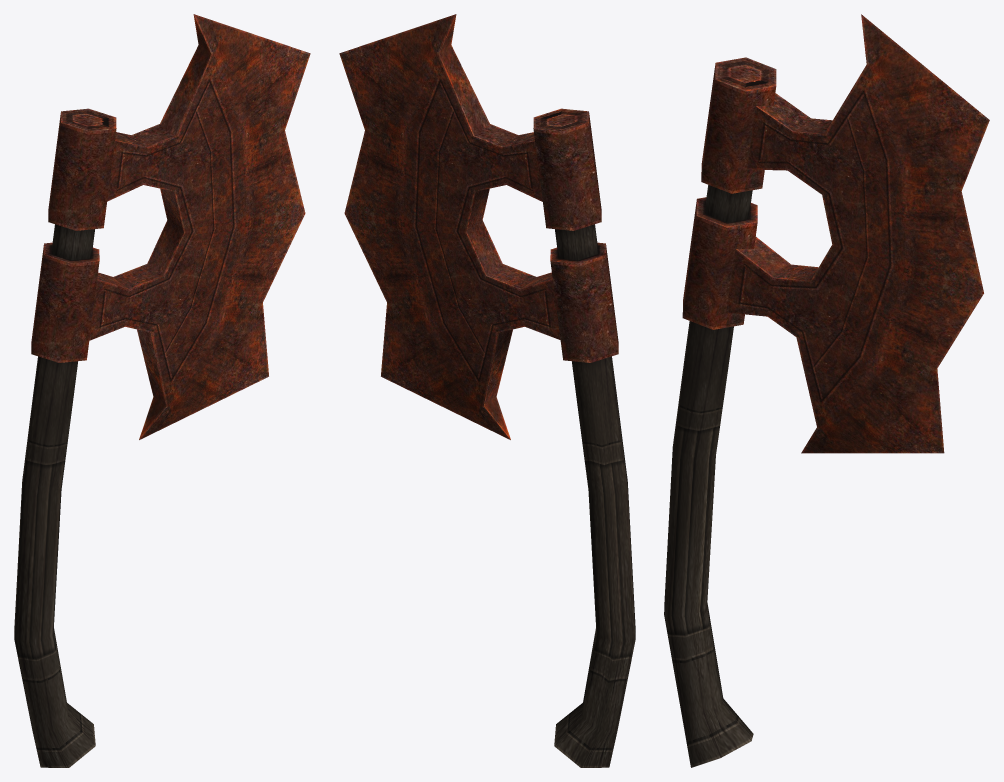
File: axe04_rusty.FBX
3 renders of one model, left to right at view 1: azimuth 30°, elevation 25°; view 2: azimuth 150°, elevation 25°; view 3: azimuth 330°, elevation 25°, orthographic. The views are drawn at different scales.
Parts seen in each view (by area): view 1: axe04; view 2: axe04; view 3: axe04.
Part boxes in pixels (bbox=[...]): axe04: bbox=[14, 14, 310, 767]; axe04: bbox=[339, 14, 635, 767]; axe04: bbox=[664, 14, 989, 767].
Bounding box in the file's own units: 0.592 × 1.37 × 0.1051.
